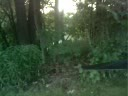window: (15, 46, 73, 96), (79, 65, 104, 79)
